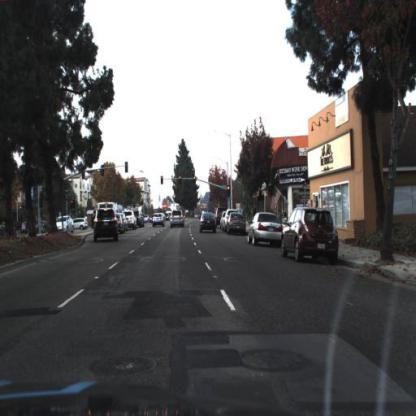car: (279, 206, 342, 271), (247, 207, 284, 248), (92, 206, 122, 242), (198, 209, 219, 236), (71, 213, 92, 236), (227, 211, 246, 236), (169, 208, 187, 231), (227, 213, 247, 233), (70, 212, 87, 234), (56, 214, 74, 233), (57, 215, 76, 233), (151, 211, 166, 229), (135, 208, 144, 229), (216, 210, 226, 228), (153, 215, 165, 229), (125, 211, 135, 227)
